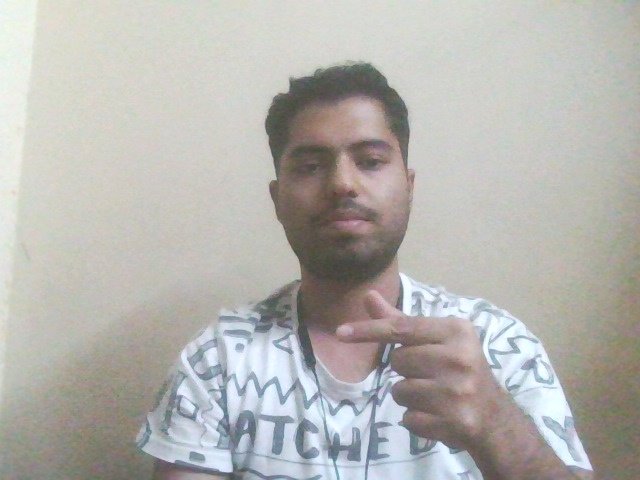G: (329, 275, 518, 445)
